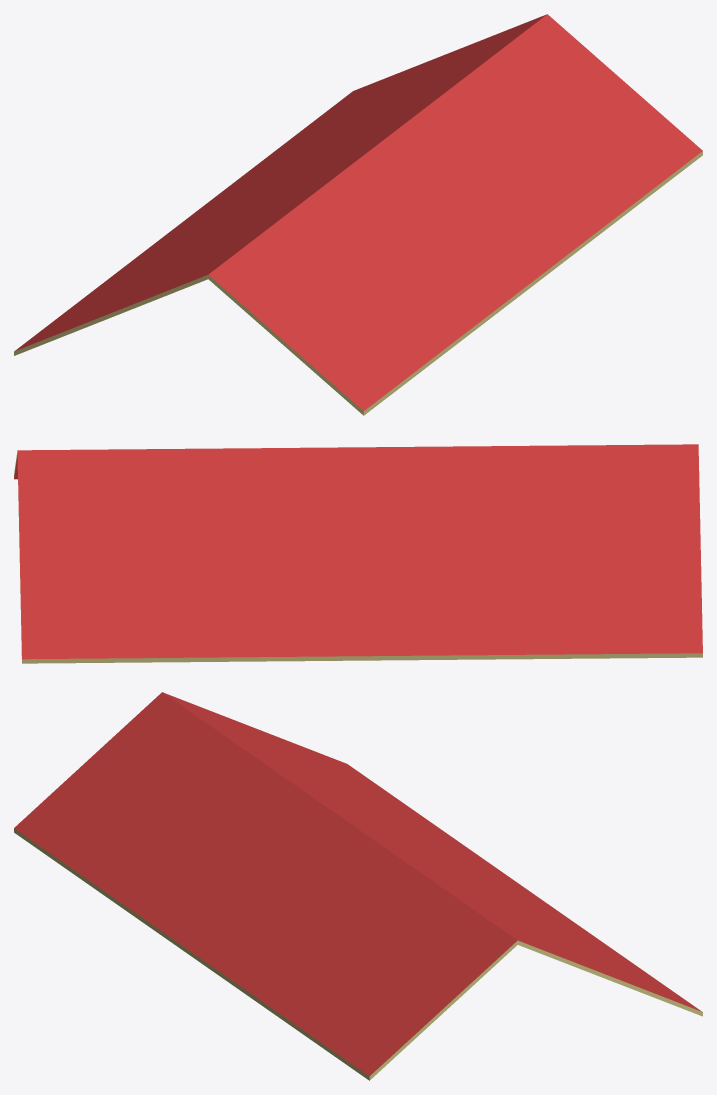
The picture shows the model from 3 angles, top to bottom: view 1: azimuth 30°, elevation 25°; view 2: azimuth 150°, elevation 25°; view 3: azimuth 270°, elevation 25°; orthographic projection. The views are drawn at different scales.
Size of the model in its own units: 16.13 by 14.08 by 2.79.
